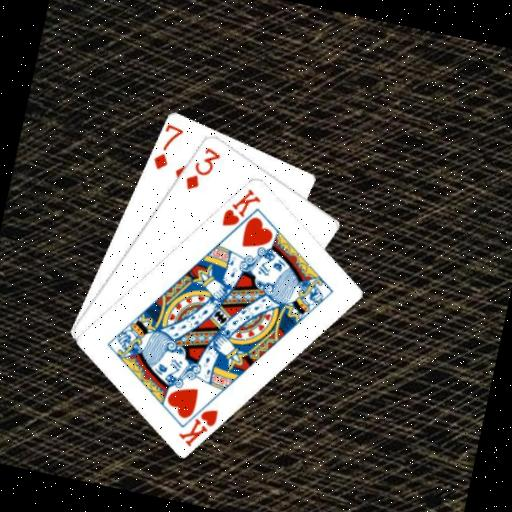3D: (179, 140, 223, 196)
7D: (148, 118, 186, 174)
KH: (173, 399, 221, 452), (217, 180, 264, 234)
